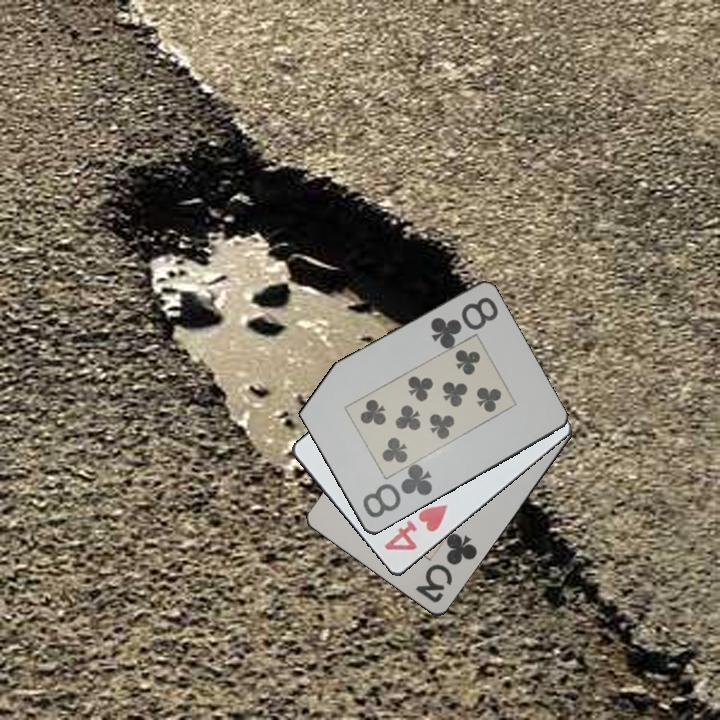3c: (411, 530, 480, 606)
4h: (380, 501, 451, 555)
8c: (359, 461, 435, 523), (427, 294, 501, 350)
